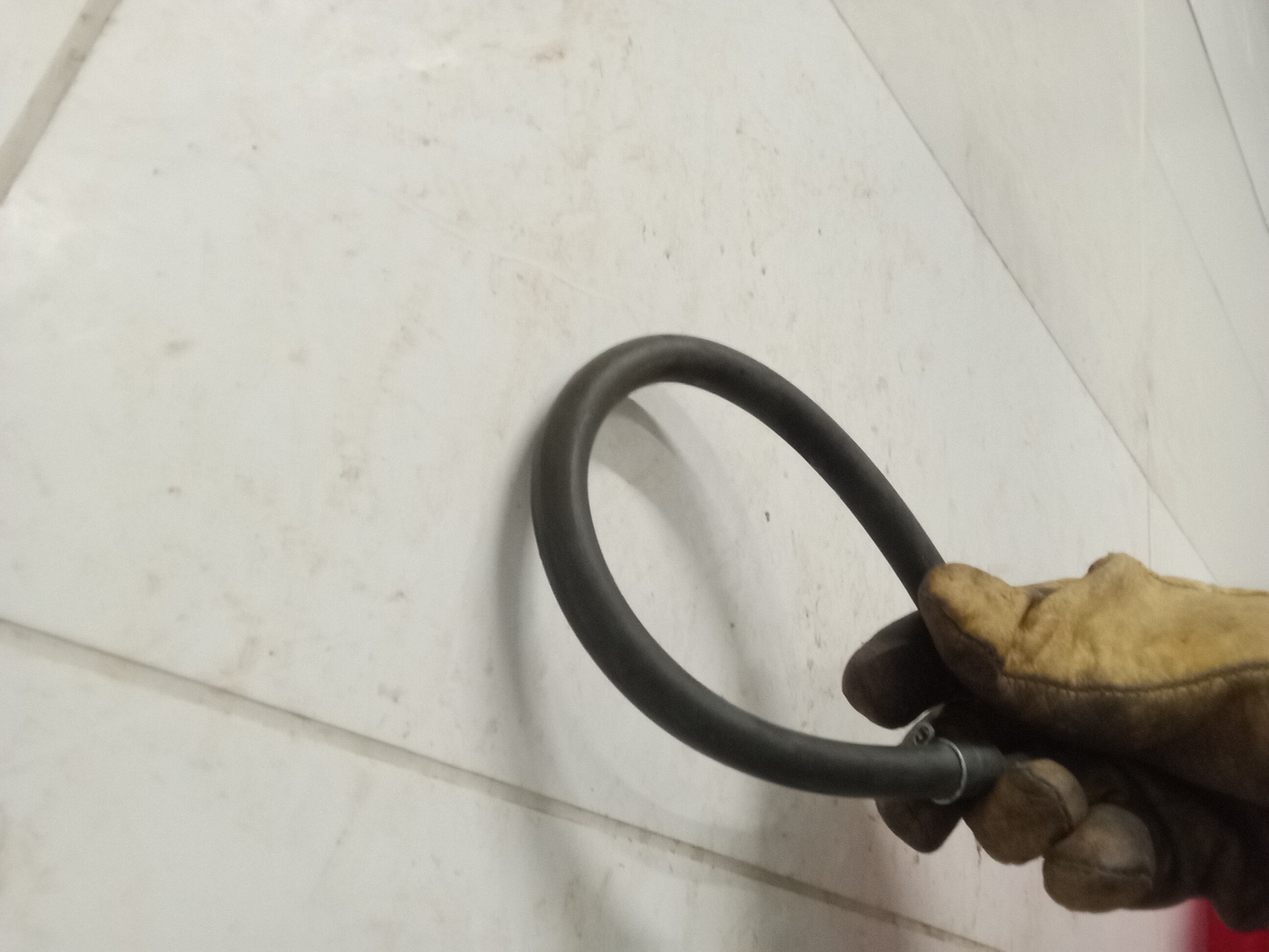Ordinario: (531, 332, 1004, 854)
